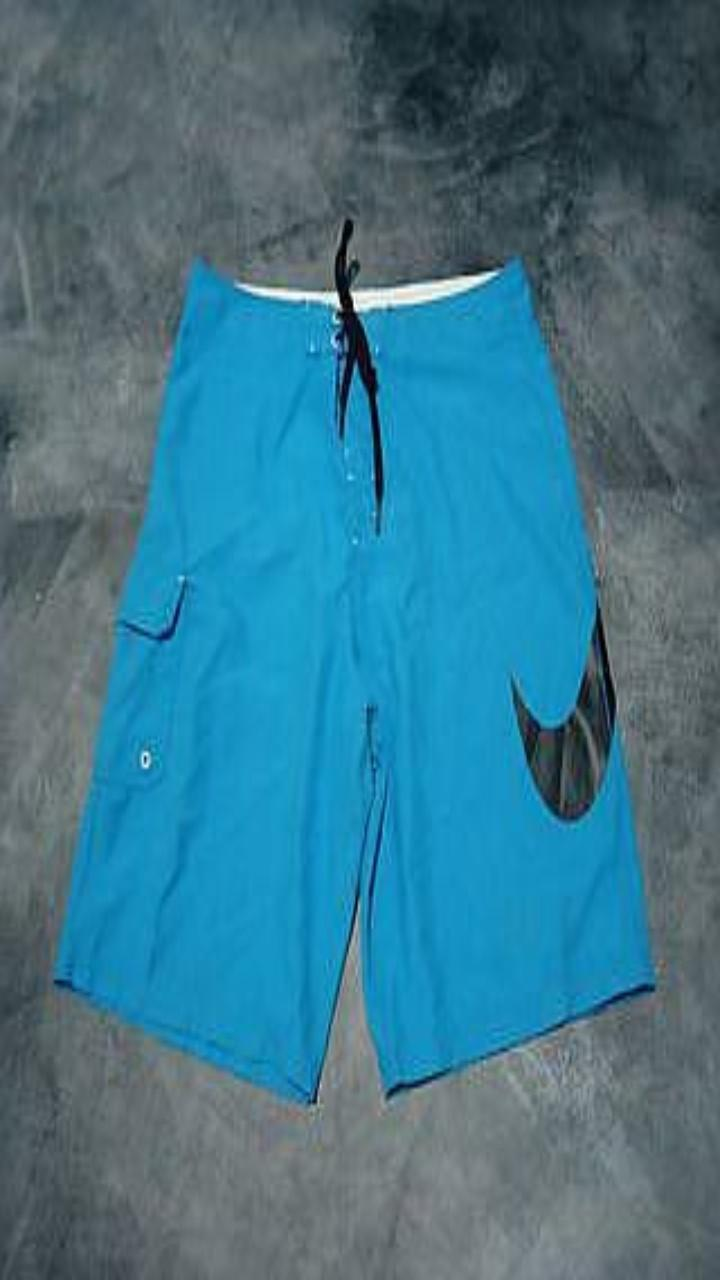Shorts: (54, 257, 654, 1103)
